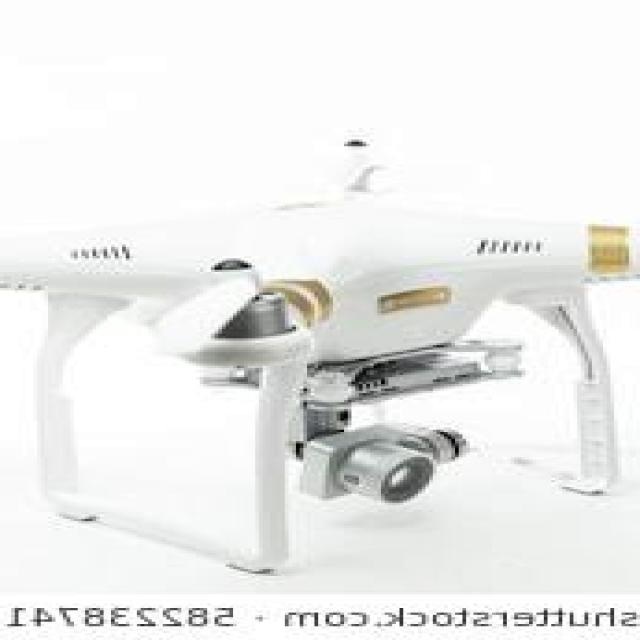drone: (0, 135, 640, 577)
